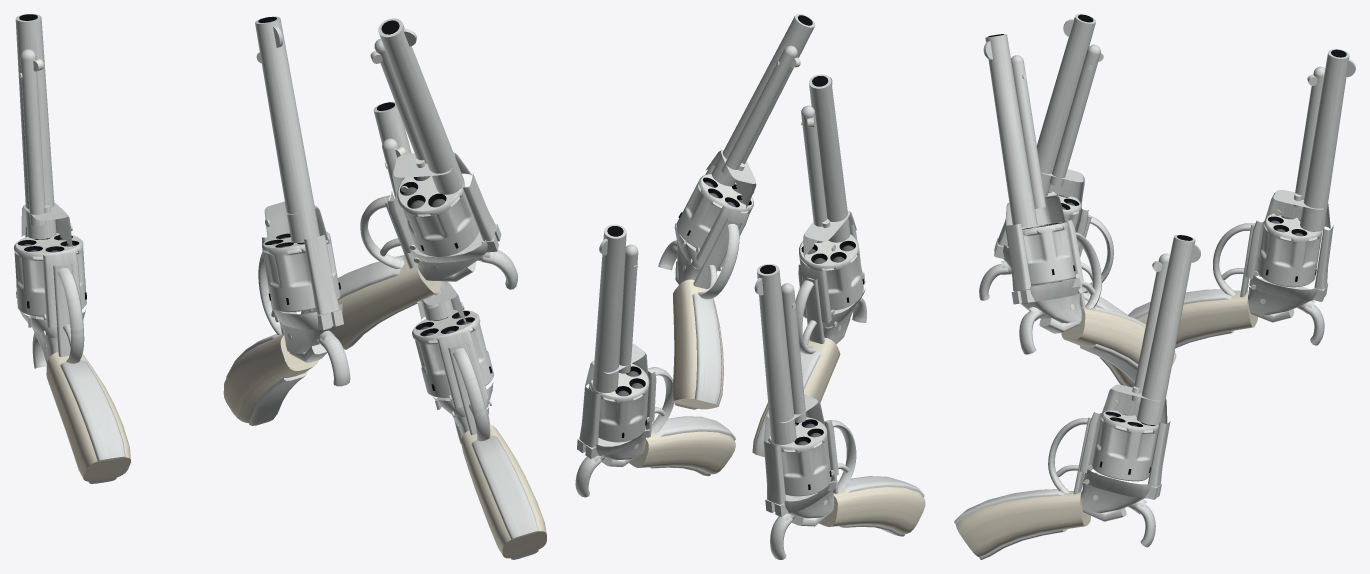
The model's file is gun.hardins-pair.glb.
3 views of the same model, side by side, from view 1: azimuth 30°, elevation 25°; view 2: azimuth 150°, elevation 25°; view 3: azimuth 270°, elevation 25° (orthographic). The views are drawn at different scales.
Parts seen in each view (by area): view 1: revolver (×4); view 2: revolver (×4); view 3: revolver (×4).
Part boxes in pixels (x1,y1,x2,y2): revolver (×4): (14, 14, 546, 559); revolver (×4): (575, 14, 925, 559); revolver (×4): (954, 14, 1355, 559).
Bounding box in the file's own units: 0.3225 × 0.4388 × 0.3361.
1 material, 1 textured.
